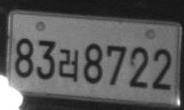2: (151, 48, 172, 89), (128, 46, 148, 88)
3: (35, 39, 56, 79)
7: (106, 44, 127, 85)
8: (13, 37, 34, 78), (83, 42, 103, 84)
러: (58, 48, 79, 82)
